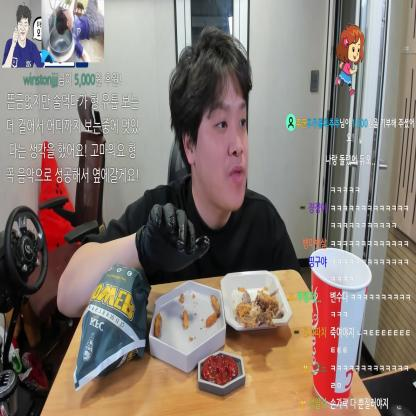donation: (6, 0, 139, 184), (286, 22, 414, 166)
streamer: (57, 26, 302, 320)
